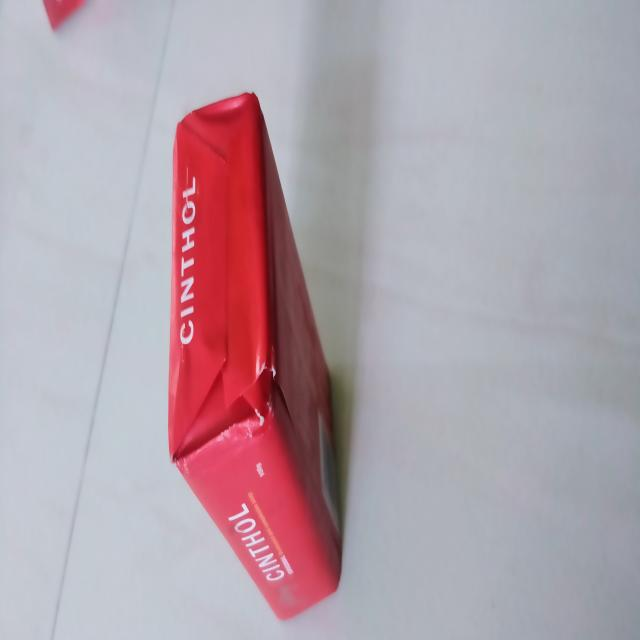soap: (165, 100, 348, 614)
